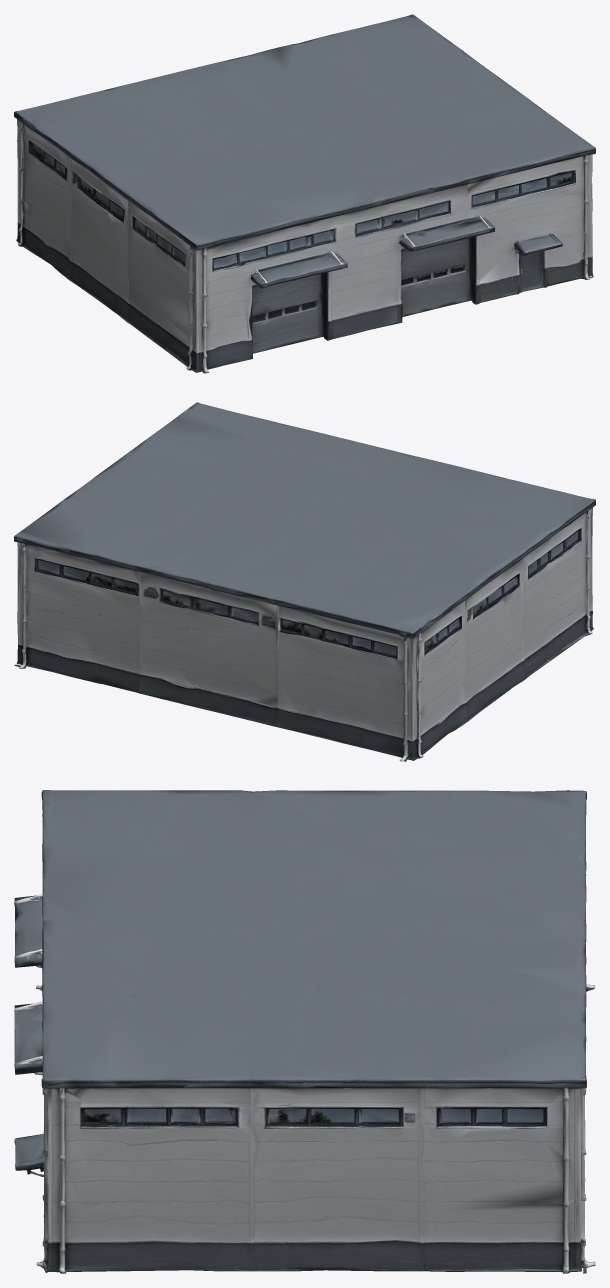
Rendered from customer-hall.3e70d3a794.glb.
3 renders of one model, top to bottom at view 1: azimuth 30°, elevation 25°; view 2: azimuth 150°, elevation 25°; view 3: azimuth 270°, elevation 25°, orthographic. The views are drawn at different scales.
Visible parts, largest first — view 1: tripo_node_44be7be7-0e0d-4839-b4b8-f7a939f719cd; view 2: tripo_node_44be7be7-0e0d-4839-b4b8-f7a939f719cd; view 3: tripo_node_44be7be7-0e0d-4839-b4b8-f7a939f719cd.
Part boxes in pixels (box(x1,y1,x2,y2)): tripo_node_44be7be7-0e0d-4839-b4b8-f7a939f719cd: box(14, 14, 595, 373); tripo_node_44be7be7-0e0d-4839-b4b8-f7a939f719cd: box(14, 402, 595, 761); tripo_node_44be7be7-0e0d-4839-b4b8-f7a939f719cd: box(14, 790, 595, 1273).
Bounding box in the file's own units: 22 × 6.82 × 18.4.
1 material, 1 textured.
